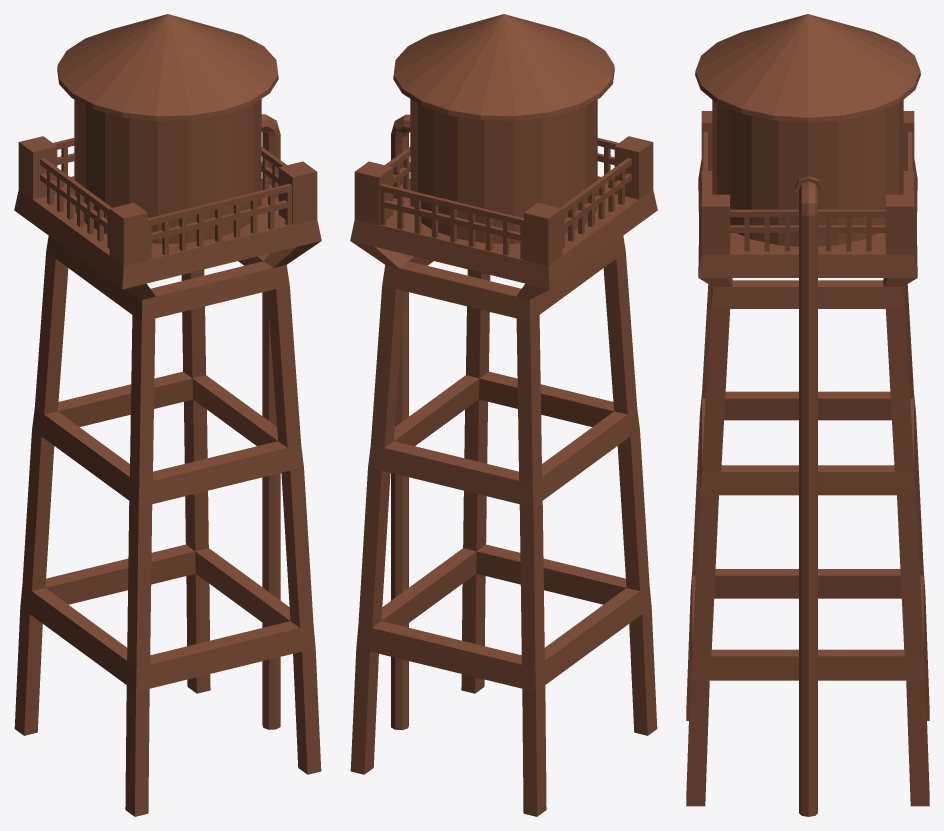
File: WaterTower.glb
3 views of the same model, side by side, from view 1: azimuth 30°, elevation 25°; view 2: azimuth 150°, elevation 25°; view 3: azimuth 270°, elevation 25° (orthographic).
Visible parts, largest first — view 1: WaterTower_Cube.006; view 2: WaterTower_Cube.006; view 3: WaterTower_Cube.006.
Part boxes in pixels (x1,y1,x2,y2): WaterTower_Cube.006: (14,14,321,816); WaterTower_Cube.006: (350,14,657,816); WaterTower_Cube.006: (686,14,929,816).
Size of the model in its own units: 2.53 by 8.43 by 2.49.
